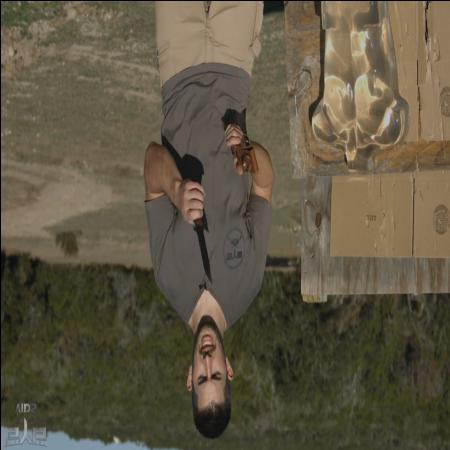long weapon: (179, 183, 215, 292)
